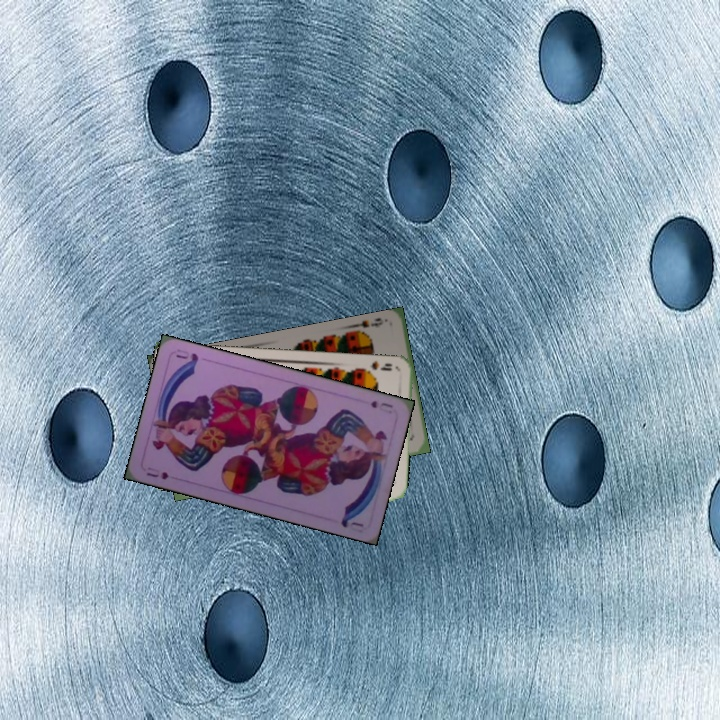S9: (348, 314, 389, 338), (357, 357, 395, 376)
SU: (367, 396, 395, 416), (142, 463, 171, 482)
